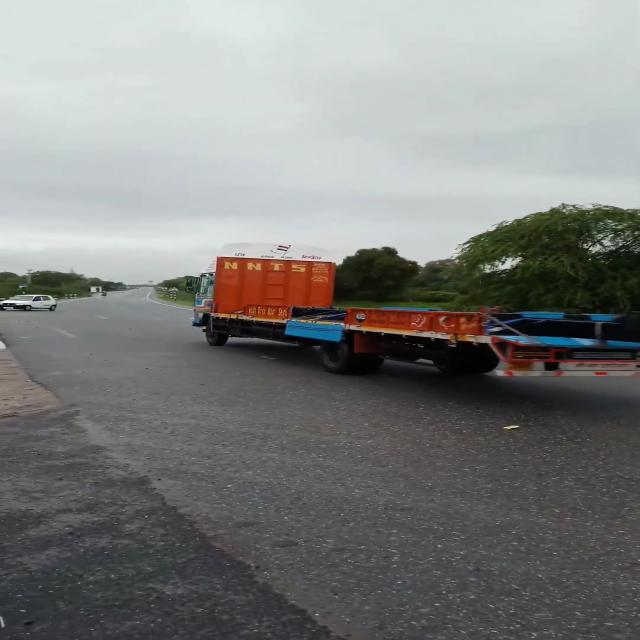Truck: (172, 226, 640, 411)
